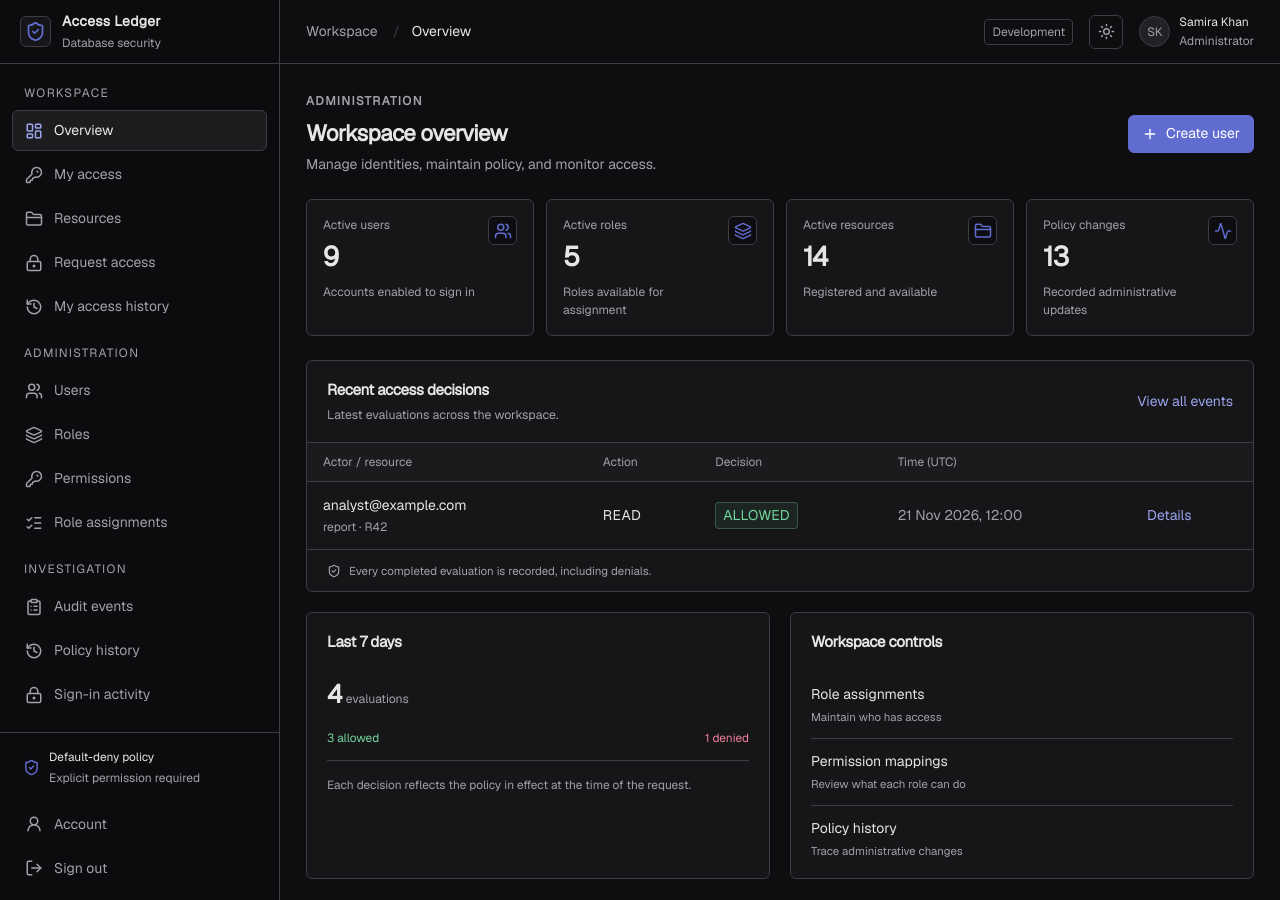
Test: workspace interactions › persists both theme changes and sidebar collapse
Click the button named "Switch to light theme": (1106, 32) [1089,14,1123,48]
(page scrolled)
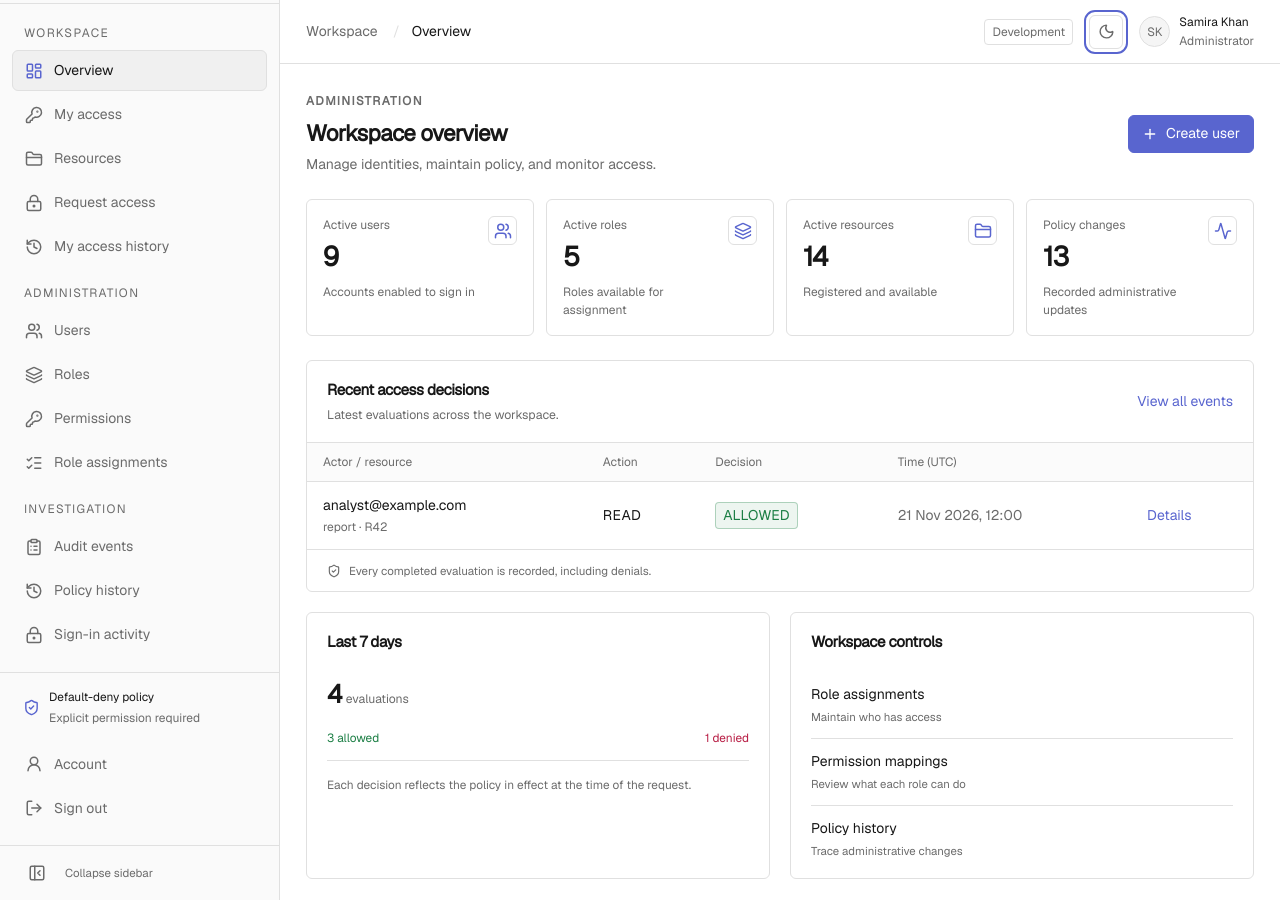
Click the button named "Collapse sidebar": (37, 873) [20,856,54,890]
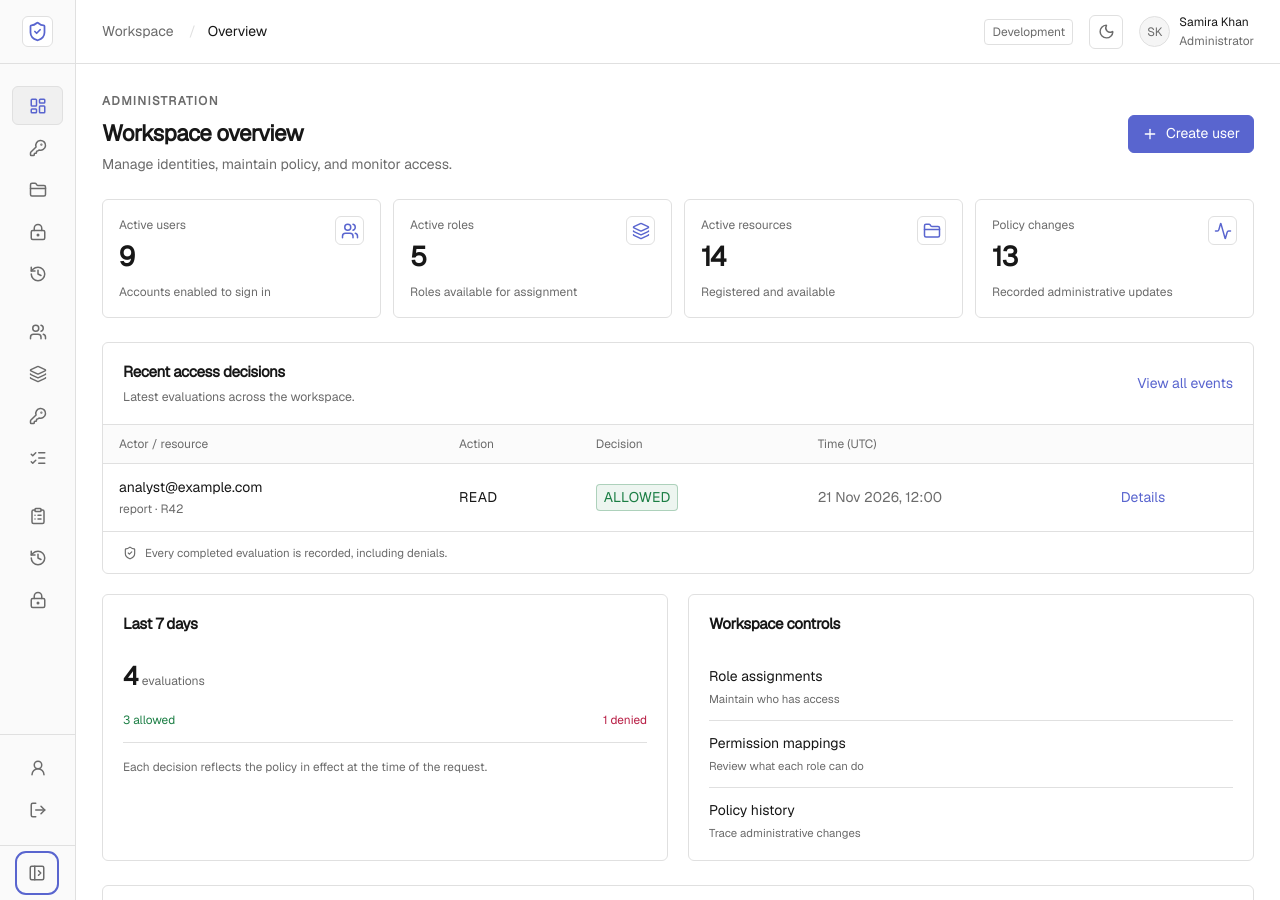
Expected: the button named "Expand sidebar" is shown, [20,856,54,890]
